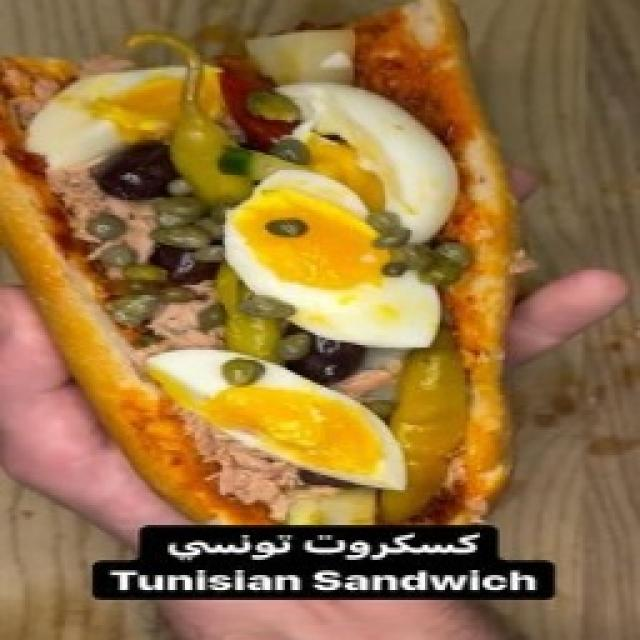Sandwitch tounsi: (0, 0, 532, 528)
